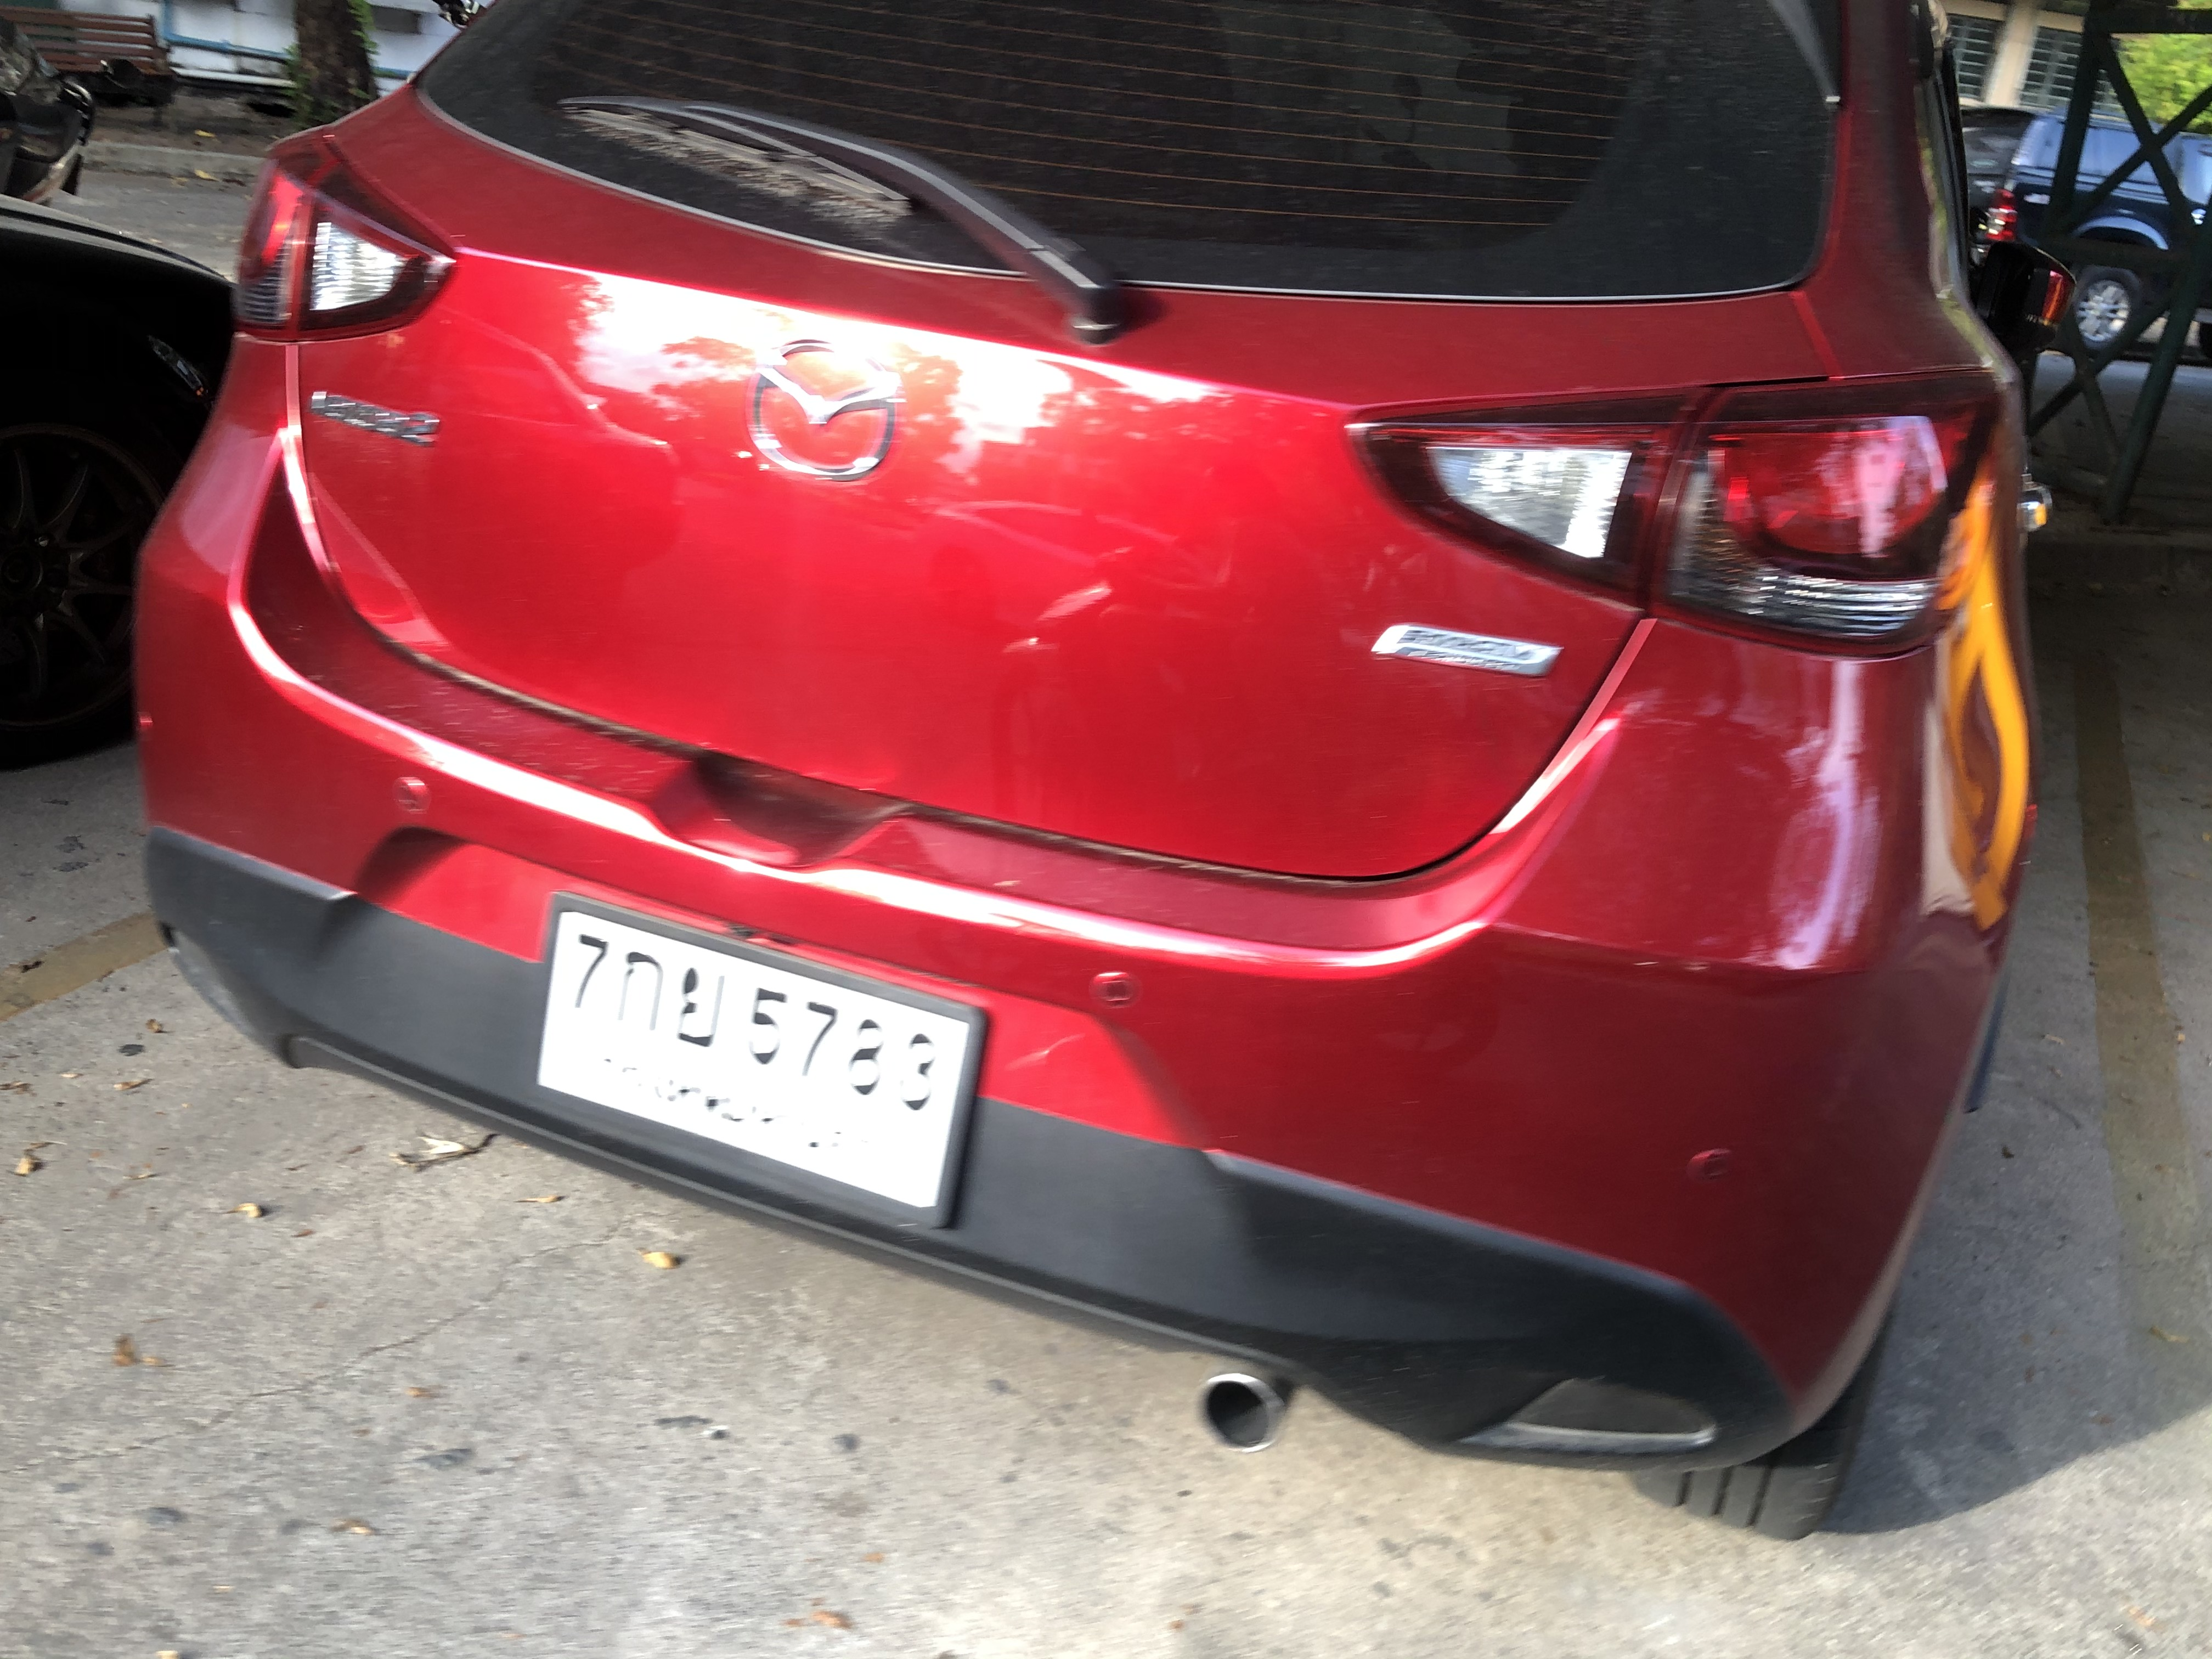in: (540, 911, 974, 1209)
out: (524, 887, 991, 1239)
